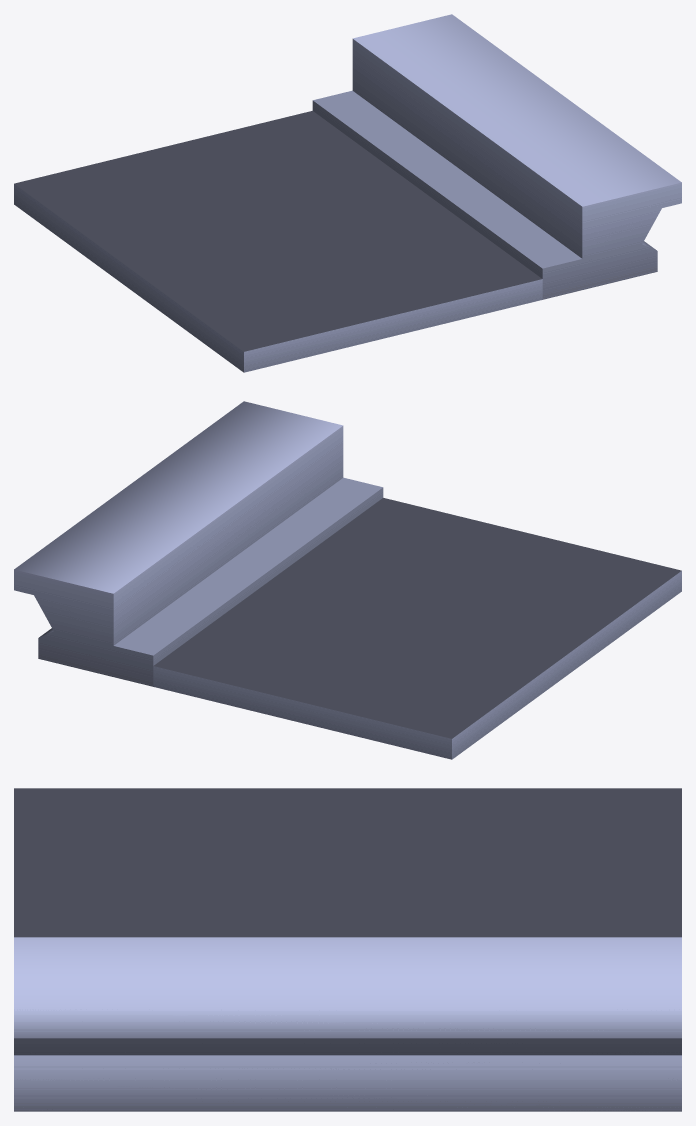
File: roof-flat-side.glb
3 views of the same model, one above another, from view 1: azimuth 30°, elevation 25°; view 2: azimuth 150°, elevation 25°; view 3: azimuth 270°, elevation 25° (orthographic). The views are drawn at different scales.
Visible parts, largest first — view 1: roof-flat-side; view 2: roof-flat-side; view 3: roof-flat-side.
Boxes of the visible parts, x1,y1,x2,y2 form: roof-flat-side: (14,14,681,372); roof-flat-side: (14,401,681,759); roof-flat-side: (14,788,681,1111).
Size of the model in its own units: 2.2 by 0.4 by 2.
1 material, 1 textured.
